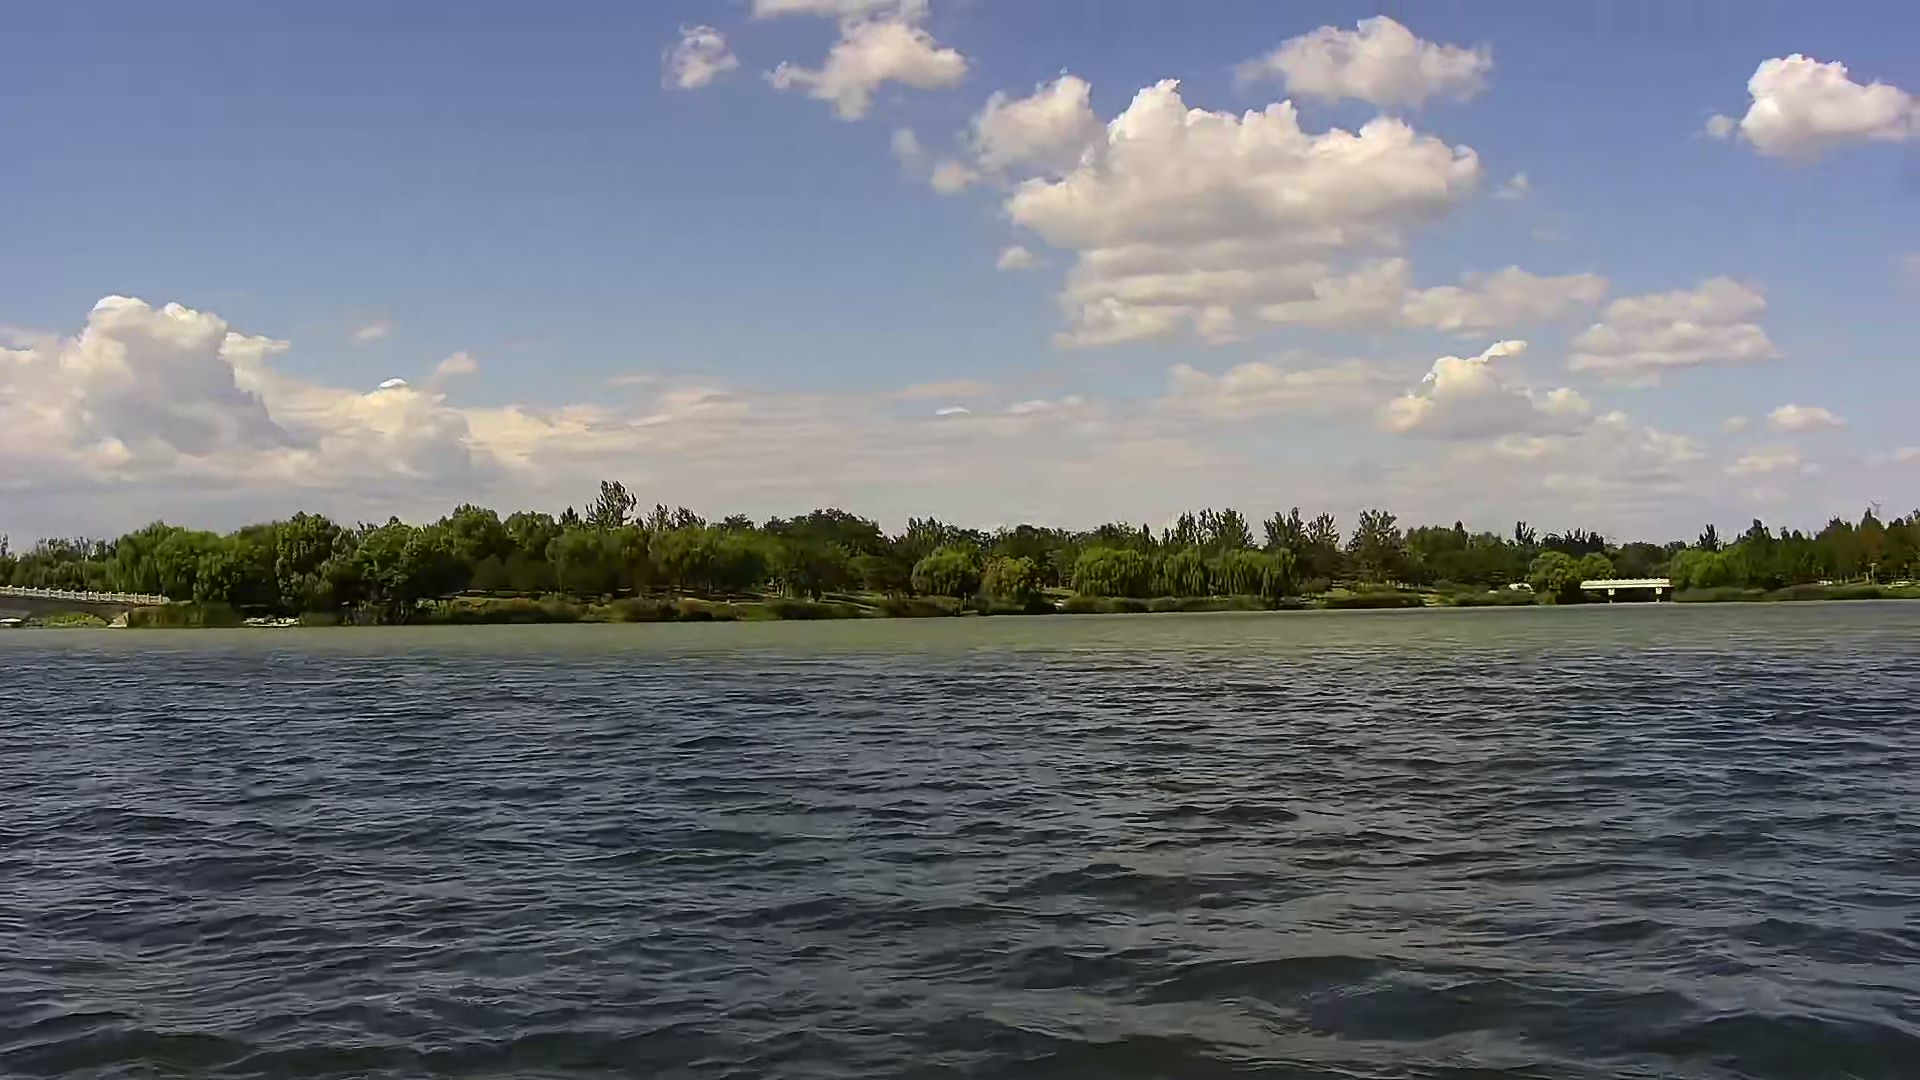bridge: (1, 585, 169, 636), (1573, 574, 1681, 611)
